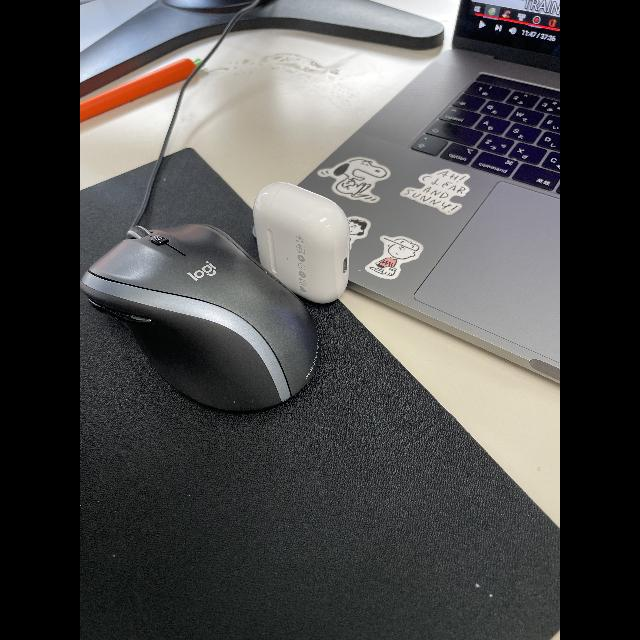airpod3: (246, 171, 356, 311)
